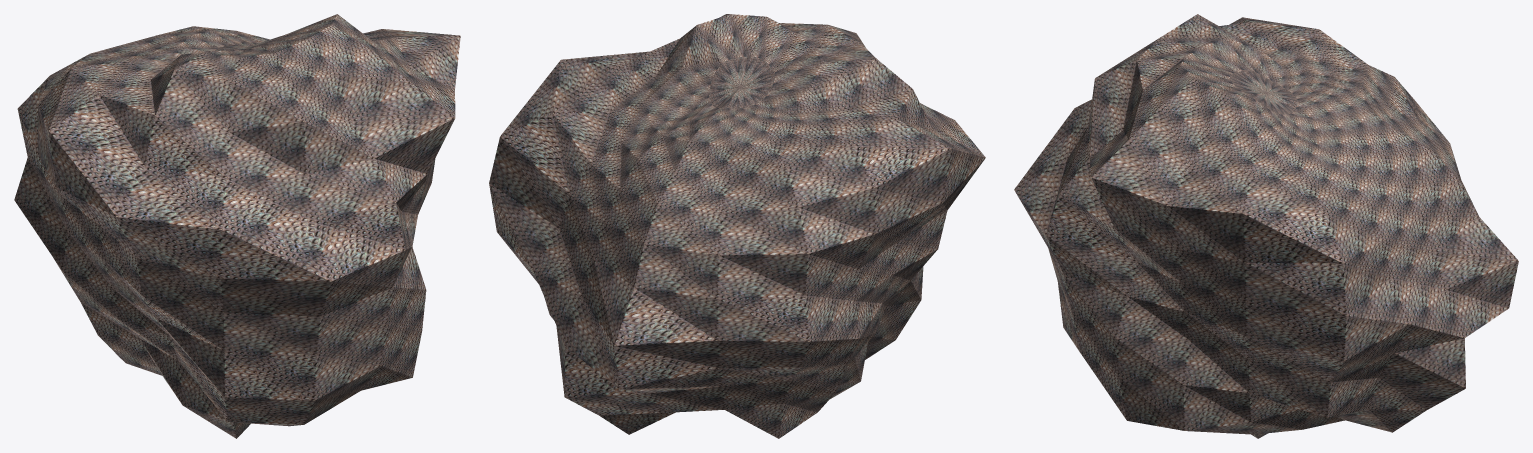
Rendered from coral004c.obj.
The picture shows the model from 3 angles, left to right: view 1: azimuth 30°, elevation 25°; view 2: azimuth 150°, elevation 25°; view 3: azimuth 270°, elevation 25°; orthographic projection. The views are drawn at different scales.
Parts seen in each view (by area): view 1: Landscape; view 2: Landscape; view 3: Landscape.
Boxes of the visible parts, <box> form: Landscape: <box>14,14,460,438</box>; Landscape: <box>489,14,985,438</box>; Landscape: <box>1014,14,1518,438</box>.
Bounding box in the file's own units: 7.53 × 6.44 × 7.97.
1 material, 1 textured.
